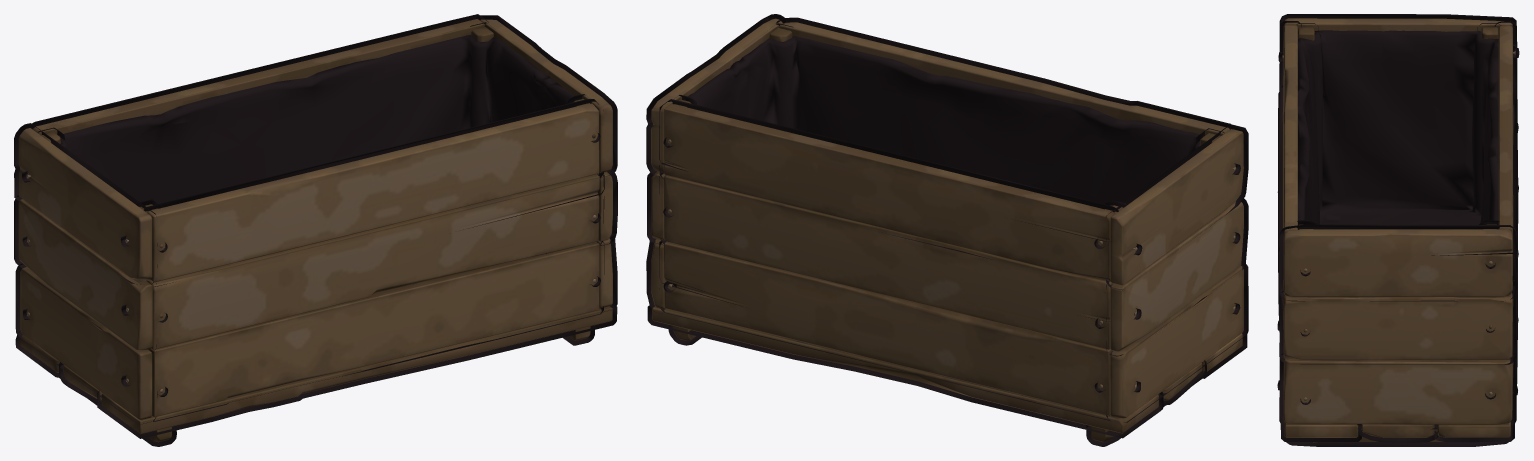
The model's file is SM_Int_PlanterBox.fbx.
3 views of the same model, side by side, from view 1: azimuth 30°, elevation 25°; view 2: azimuth 150°, elevation 25°; view 3: azimuth 270°, elevation 25° (orthographic). The views are drawn at different scales.
Parts seen in each view (by area): view 1: SM_Int_PlanterBox; view 2: SM_Int_PlanterBox; view 3: SM_Int_PlanterBox.
Boxes of the visible parts, box(x1,y1,x2,y2) form: SM_Int_PlanterBox: box(14, 14, 617, 446); SM_Int_PlanterBox: box(646, 14, 1248, 446); SM_Int_PlanterBox: box(1277, 14, 1519, 446).
Size of what is drawn, in the model's own units: 0.9273 by 0.4401 by 0.428.
